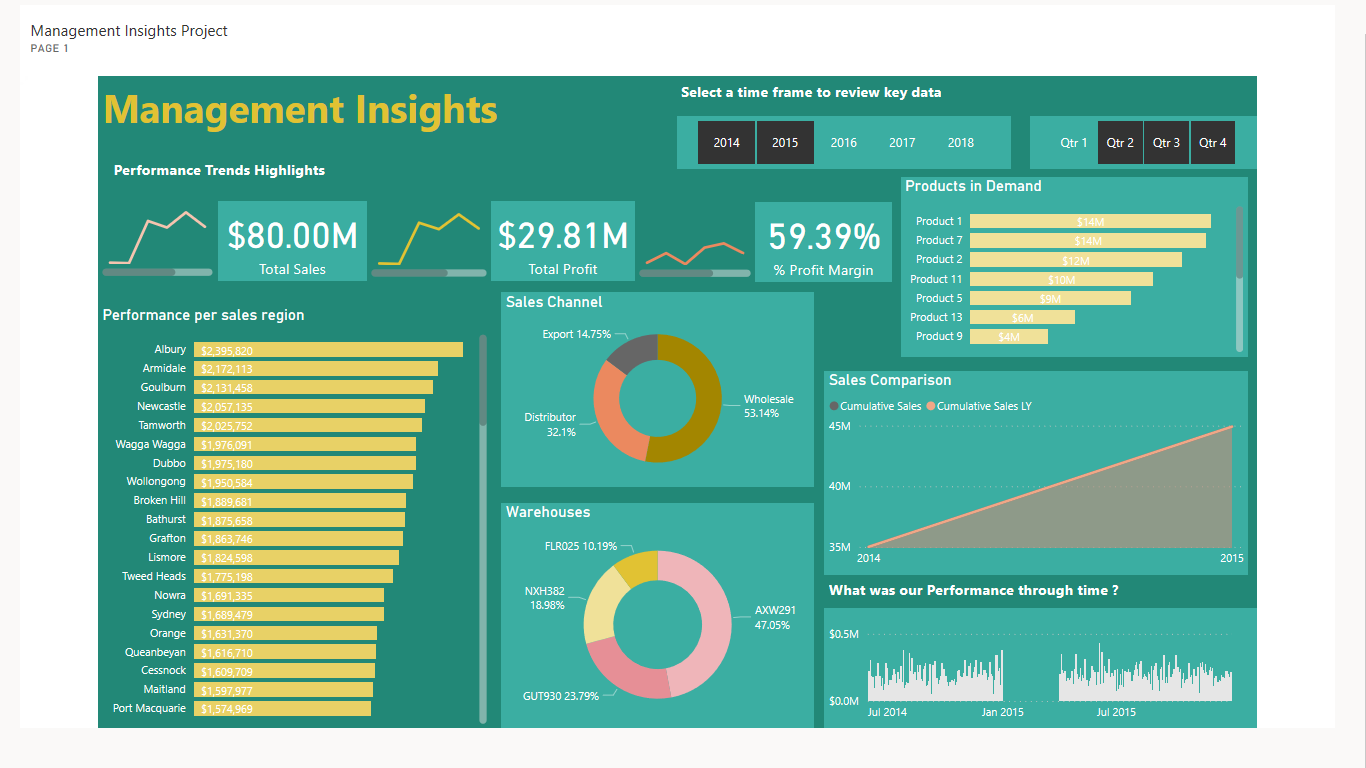

What the dashboard file says about the page in this screenshot:
{"tool":"powerbi","page":{"name":"Page 1","canvas":[1280,720],"ordinal":0},"visuals":[{"type":"card","fields":{"Values":["Imp Measures.Total Sales"]},"box":[133,137.2,164.1,89.1],"z":0},{"type":"card","fields":{"Values":["Imp Measures.Total Profit"]},"box":[434.3,137.2,158.4,89.1],"z":1000},{"type":"card","fields":{"Values":["Imp Measures.% Profit Margin"]},"box":[725.7,138.6,151.4,89.1],"z":2000},{"type":"slicer","fields":{"Values":["Date 1.Date.Variation.Date Hierarchy.Year"]},"box":[639.4,43.9,369.2,58],"z":3000},{"type":"slicer","fields":{"Values":["Date 1.Date.Variation.Date Hierarchy.Quarter"]},"box":[1029.8,43.9,250.4,58],"z":4000},{"type":"textbox","box":[0,0,477.1,102],"z":5000},{"type":"textbox","box":[639.4,0,437.1,43.9],"z":6000},{"type":"lineChart","fields":{"Y":["Imp Measures.Total Sales"],"Category":["Date 1.Date.Variation.Date Hierarchy.Month"]},"box":[0,135.8,131.6,89.1],"z":7000},{"type":"lineChart","fields":{"Category":["Date 1.Date.Variation.Date Hierarchy.Month"],"Y":["Imp Measures.Total Sales"]},"box":[297.1,138.6,137.2,87.7],"z":8000},{"type":"lineChart","fields":{"Category":["Date 1.Date.Variation.Date Hierarchy.Month"],"Y":["Imp Measures.% Profit Margin"]},"box":[592.7,137.2,133,89.1],"z":9000},{"type":"barChart","title":"Performance per sales region","fields":{"Y":["Imp Measures.Total Sales"],"Category":["Regions.City"]},"box":[0,253.2,434.3,466.8],"z":10000},{"type":"areaChart","title":"Sales Comparison","fields":{"Y":["Cumulative Measures.Cumulative Sales","Cumulative Measures.Cumulative Sales LY"],"Category":["Date 1.Date.Variation.Date Hierarchy.Year"]},"box":[802,325.3,468.2,224.9],"z":11000},{"type":"textbox","box":[12.7,86.3,421.5,50.9],"z":12000},{"type":"columnChart","fields":{"Y":["Imp Measures.Total Sales"],"Category":["Date 1.Date"]},"box":[802,587,478.1,133],"z":13000},{"type":"donutChart","title":"Warehouses","fields":{"Category":["Sales.Warehouse Code"],"Y":["Imp Measures.Total Sales"]},"box":[445.6,471,345.1,249],"z":14000},{"type":"donutChart","title":"Sales Channel","fields":{"Y":["Imp Measures.Total Sales"],"Category":["Sales.Channel"]},"box":[445.6,239.1,345.1,215],"z":15000},{"type":"barChart","title":"Products in Demand","fields":{"Y":["Imp Measures.Total Sales"],"Category":["Product Data.Product Name"]},"box":[886.9,111.7,383.3,198],"z":16000},{"type":"textbox","box":[802,550.3,373.4,36.8],"z":17000}]}

Visuals, with their boxes on the page's 1280x720 design canvas (x1, y1, x2, y2). These are canvas units, not pixel positions in the 1366x768 screenshot, which may show the page scaled, cropped or inside an application window:
card - Imp Measures.Total Sales: {"left": 133, "top": 137, "right": 297, "bottom": 226}
card - Imp Measures.Total Profit: {"left": 434, "top": 137, "right": 593, "bottom": 226}
card - Imp Measures.% Profit Margin: {"left": 726, "top": 139, "right": 877, "bottom": 228}
slicer - Date 1.Date.Variation.Date Hierarchy.Year: {"left": 639, "top": 44, "right": 1009, "bottom": 102}
slicer - Date 1.Date.Variation.Date Hierarchy.Quarter: {"left": 1030, "top": 44, "right": 1280, "bottom": 102}
textbox: {"left": 0, "top": 0, "right": 477, "bottom": 102}
textbox: {"left": 639, "top": 0, "right": 1076, "bottom": 44}
lineChart - Imp Measures.Total Sales x Date 1.Date.Variation.Date Hierarchy.Month: {"left": 0, "top": 136, "right": 132, "bottom": 225}
lineChart - Date 1.Date.Variation.Date Hierarchy.Month x Imp Measures.Total Sales: {"left": 297, "top": 139, "right": 434, "bottom": 226}
lineChart - Date 1.Date.Variation.Date Hierarchy.Month x Imp Measures.% Profit Margin: {"left": 593, "top": 137, "right": 726, "bottom": 226}
"Performance per sales region" barChart: {"left": 0, "top": 253, "right": 434, "bottom": 720}
"Sales Comparison" areaChart: {"left": 802, "top": 325, "right": 1270, "bottom": 550}
textbox: {"left": 13, "top": 86, "right": 434, "bottom": 137}
columnChart - Imp Measures.Total Sales x Date 1.Date: {"left": 802, "top": 587, "right": 1280, "bottom": 720}
"Warehouses" donutChart: {"left": 446, "top": 471, "right": 791, "bottom": 720}
"Sales Channel" donutChart: {"left": 446, "top": 239, "right": 791, "bottom": 454}
"Products in Demand" barChart: {"left": 887, "top": 112, "right": 1270, "bottom": 310}
textbox: {"left": 802, "top": 550, "right": 1175, "bottom": 587}
